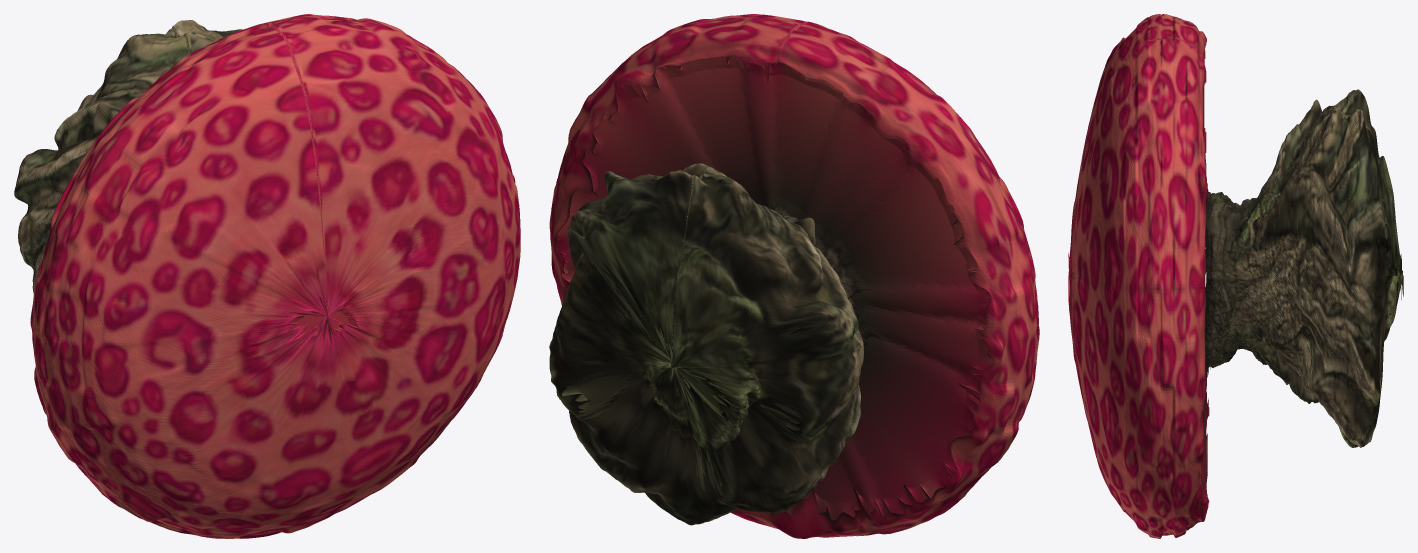
File: mesh_inpaint.glb
The picture shows the model from 3 angles, left to right: view 1: azimuth 30°, elevation 25°; view 2: azimuth 150°, elevation 25°; view 3: azimuth 270°, elevation 25°; orthographic projection. The views are drawn at different scales.
Visible parts, largest first — view 1: ipn, fill; view 2: ipn, fill; view 3: ipn, fill.
Part boxes in pixels (x1,y1,x2,y2): ipn: (14,14,520,538); fill: (288,298,359,346); ipn: (549,14,1039,538); fill: (557,55,993,520); ipn: (1068,14,1403,538); fill: (1068,39,1401,507).
Bounding box in the file's own units: 1.98 × 1.99 × 1.27.
Materials: 2 (1 with a texture image).
